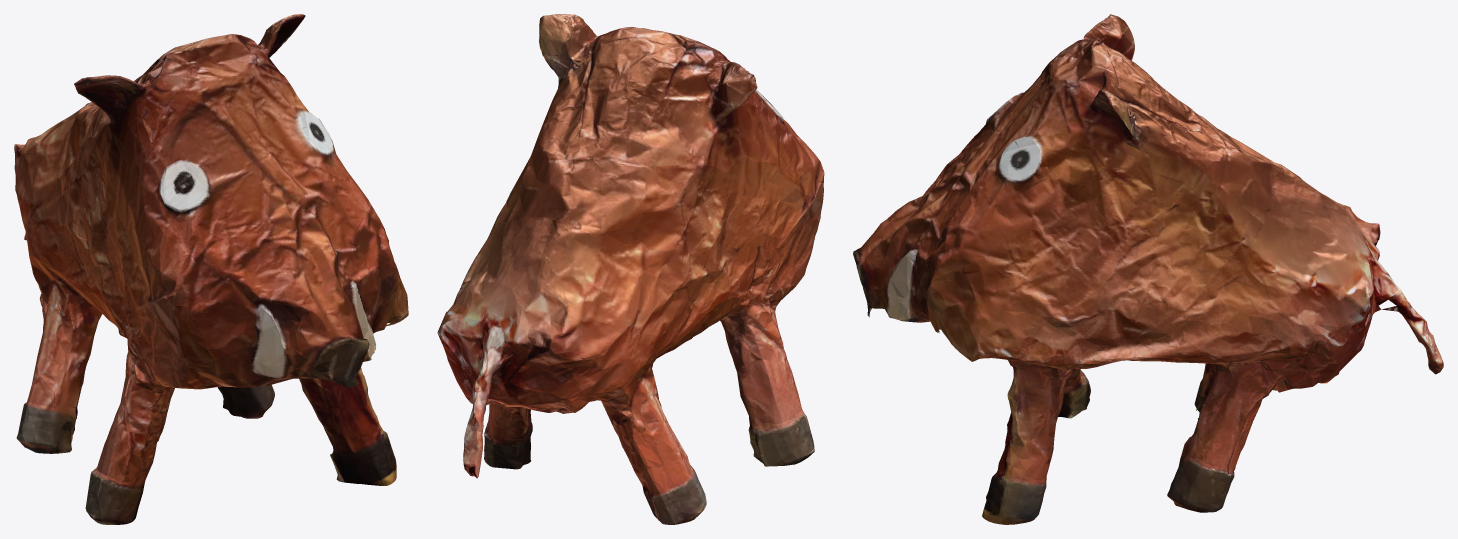
File: inoshi1-opt-draco.glb
The picture shows the model from 3 angles, left to right: view 1: azimuth 30°, elevation 25°; view 2: azimuth 150°, elevation 25°; view 3: azimuth 270°, elevation 25°; orthographic projection. The views are drawn at different scales.
Parts seen in each view (by area): view 1: mesh; view 2: mesh; view 3: mesh.
Part boxes in pixels (x1,y1,x2,y2): mesh: (14, 14, 408, 524); mesh: (437, 14, 824, 524); mesh: (853, 14, 1443, 524).
Bounding box in the file's own units: 0.2824 × 0.4121 × 0.5416.
Materials: 1 (1 with a texture image).
